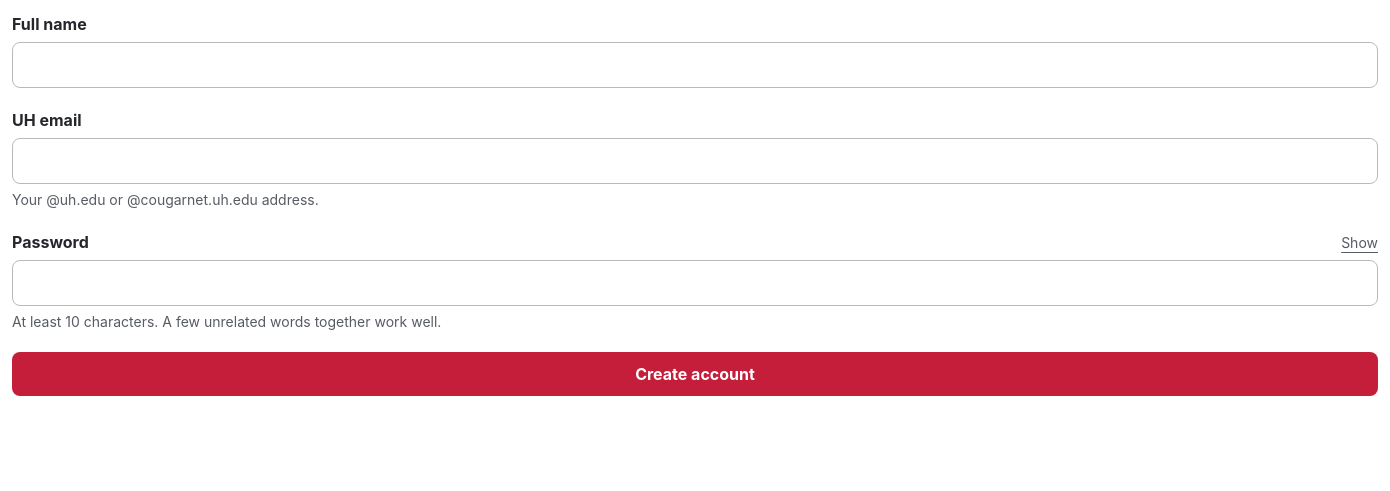
Test: SignUpForm › validates in the browser before sending anything
Click the button "Create account".
click(695, 374)  # box [12,352,1378,396]
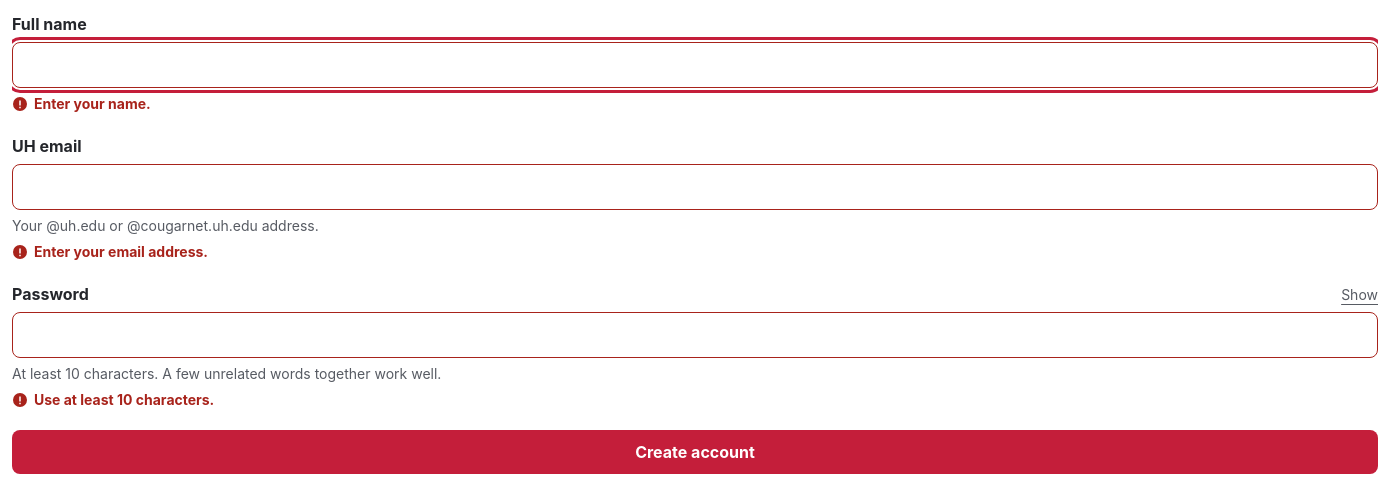
Expected: the text "Enter your name." is shown, [12,95,151,112]
Expected: the text "Enter your email address." is shown, [12,243,208,260]
Expected: the text "Use at least 10 characters." is shown, [12,391,214,408]
